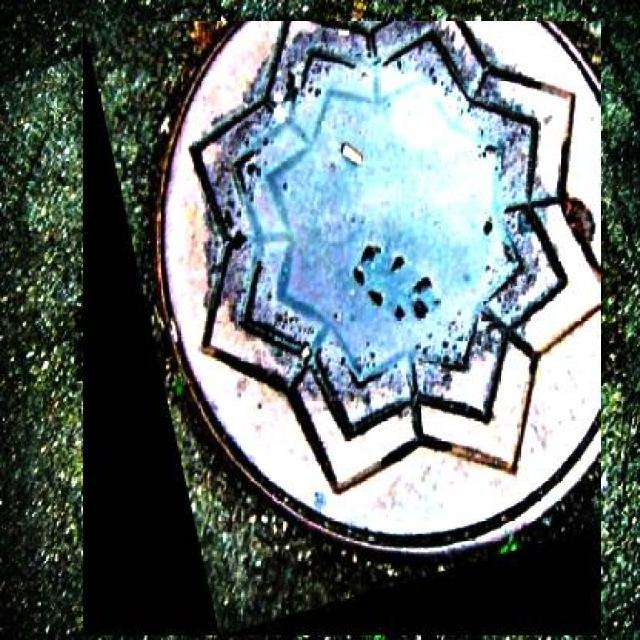Manhole: (83, 19, 600, 636)
